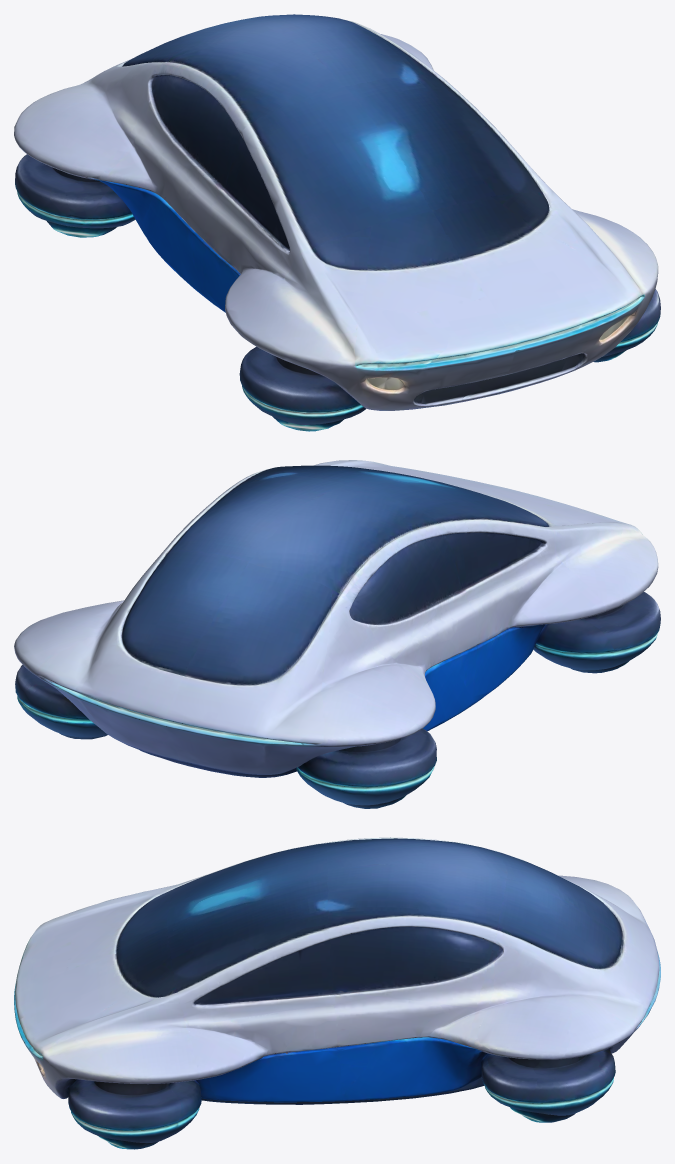
File: flyer.glb
3 renders of one model, top to bottom at view 1: azimuth 30°, elevation 25°; view 2: azimuth 150°, elevation 25°; view 3: azimuth 270°, elevation 25°, orthographic. The views are drawn at different scales.
Visible parts, largest first — view 1: model; view 2: model; view 3: model.
Boxes of the visible parts, x1=… form: model: x1=14, y1=14, x2=660, y2=431; model: x1=14, y1=460, x2=660, y2=808; model: x1=14, y1=837, x2=660, y2=1149.
Bounding box in the file's own units: 0.6619 × 0.3644 × 0.9996.
1 material, 1 textured.
